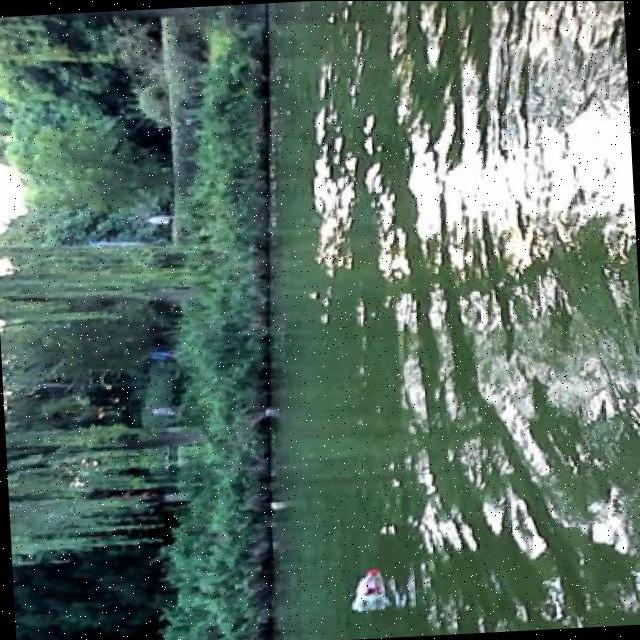Bottle: (351, 565, 390, 610)
